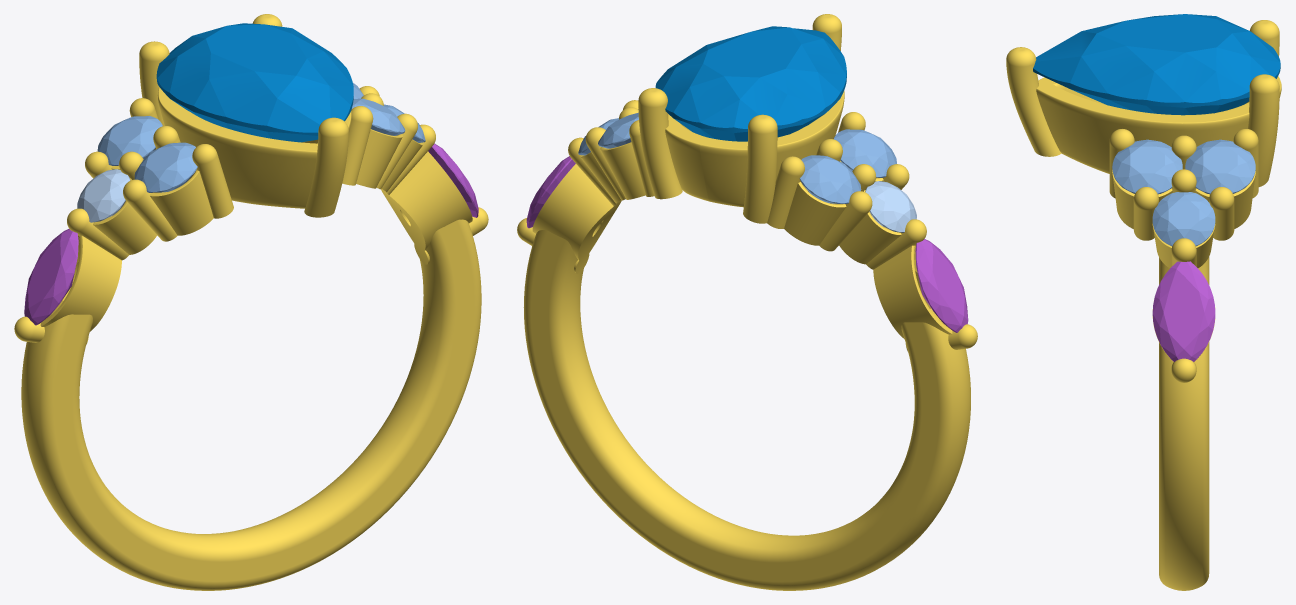
The picture shows the model from 3 angles, left to right: view 1: azimuth 30°, elevation 25°; view 2: azimuth 150°, elevation 25°; view 3: azimuth 270°, elevation 25°; orthographic projection. The views are drawn at different scales.
Visible parts, largest first — view 1: ZB-292R2.3dm, Diamond_Pear, Bezel (×5), Head Rail, Diamond_Round (×4), Head Prong (×2), Diamond_Marquise (×2); view 2: ZB-292R2.3dm, Diamond_Pear, Bezel (×5), Head Rail, Head Prong (×3), Diamond_Round (×4), Diamond_Marquise (×2); view 3: Diamond_Pear, ZB-292R2.3dm, Diamond_Round (×3), Head Rail, Head Prong (×3), Diamond_Marquise, Bezel (×3).
Boxes of the visible parts, <box> form: ZB-292R2.3dm: <box>14,86,488,590</box>; Diamond_Pear: <box>156,23,353,142</box>; Bezel (×5): <box>40,129,472,331</box>; Head Rail: <box>157,87,351,208</box>; Diamond_Round (×4): <box>77,98,405,222</box>; Head Prong (×2): <box>139,41,348,217</box>; Diamond_Marquise (×2): <box>24,143,478,325</box>; ZB-292R2.3dm: <box>517,100,977,590</box>; Diamond_Pear: <box>655,26,846,141</box>; Bezel (×5): <box>532,142,952,338</box>; Head Rail: <box>665,91,844,207</box>; Head Prong (×3): <box>638,14,841,223</box>; Diamond_Round (×4): <box>598,112,916,232</box>; Diamond_Marquise (×2): <box>526,156,968,332</box>; Diamond_Pear: <box>1033,14,1280,115</box>; ZB-292R2.3dm: <box>1109,129,1258,590</box>; Diamond_Round (×3): <box>1112,139,1255,246</box>; Head Rail: <box>1036,76,1281,173</box>; Head Prong (×3): <box>1006,20,1279,186</box>; Diamond_Marquise: <box>1152,261,1215,361</box>; Bezel (×3): <box>1112,170,1255,267</box>.
Bounding box in the file's own units: 2.55 × 2.79 × 1.31.
